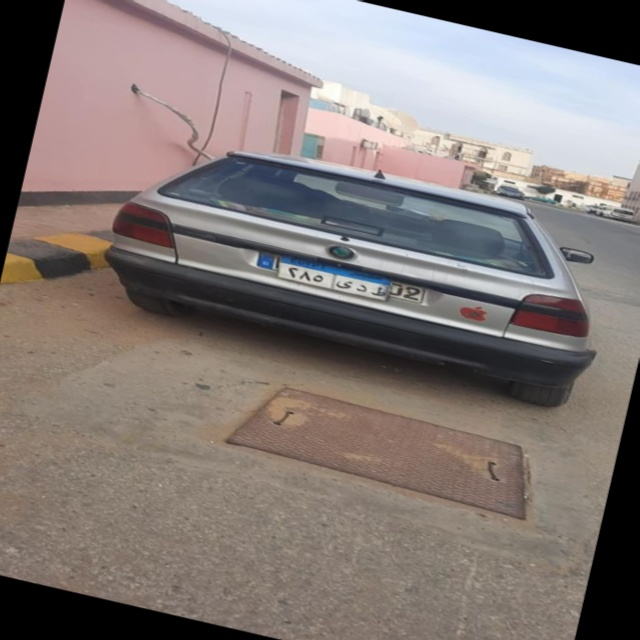License Plate: (274, 251, 395, 303)
